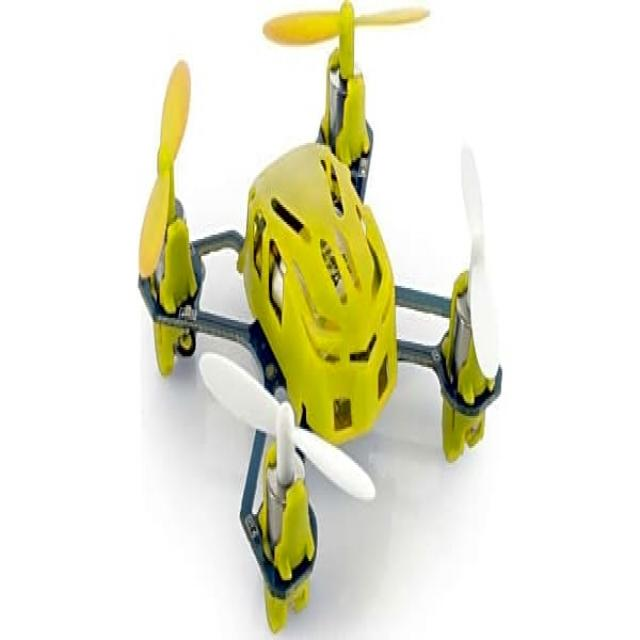drones: (125, 1, 510, 640)
